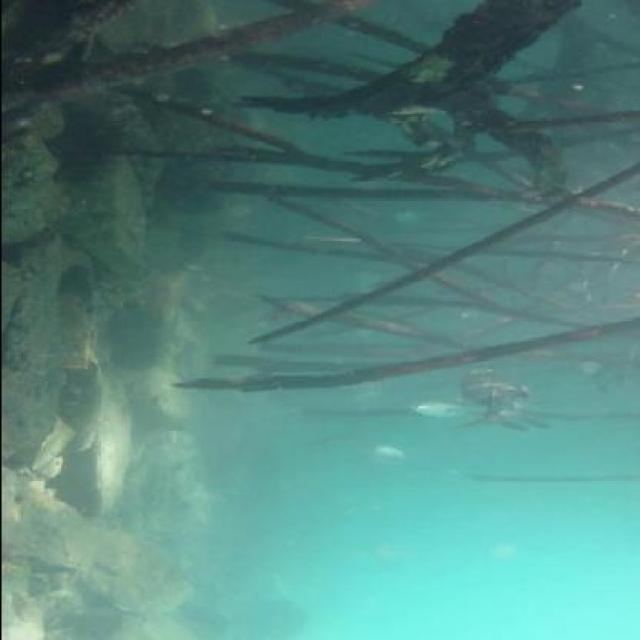Caranx_sexfasciatus_juvenile: (449, 369, 534, 433), (464, 387, 548, 439), (396, 394, 467, 428)
